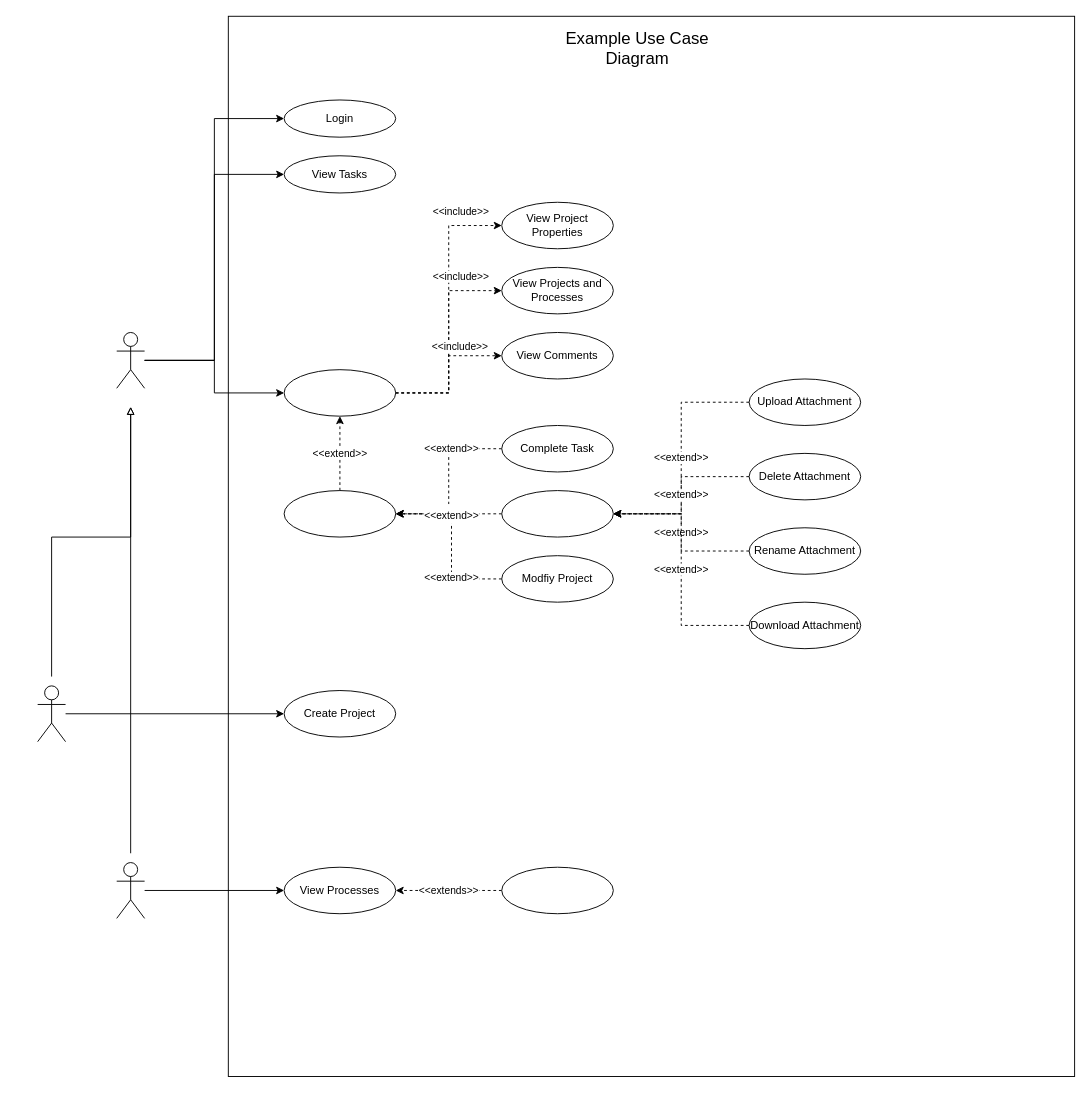
This 1091x1093 diagram has some shape labels left out. Each missing label, with the box of its shape:
Employee: (116, 332, 145, 388)
Manage Attachments: (501, 490, 613, 537)
Manage Task: (283, 490, 396, 537)
Open Task: (283, 369, 396, 416)
Project Owner: (37, 685, 66, 742)
Resolve Incidents: (501, 866, 613, 914)
Support: (116, 862, 145, 918)
